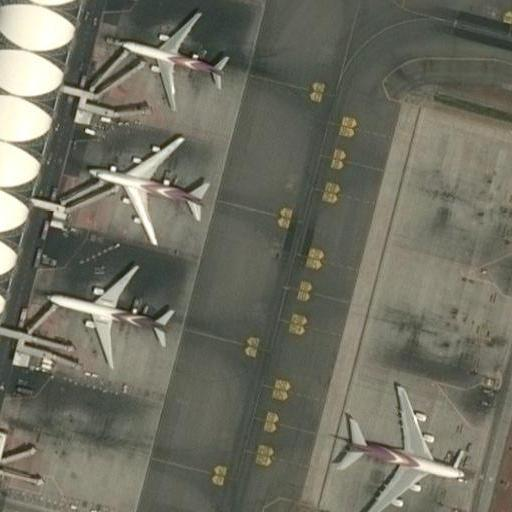Aircraft: (329, 384, 472, 512), (38, 258, 184, 363), (87, 128, 212, 240), (111, 8, 230, 107)
